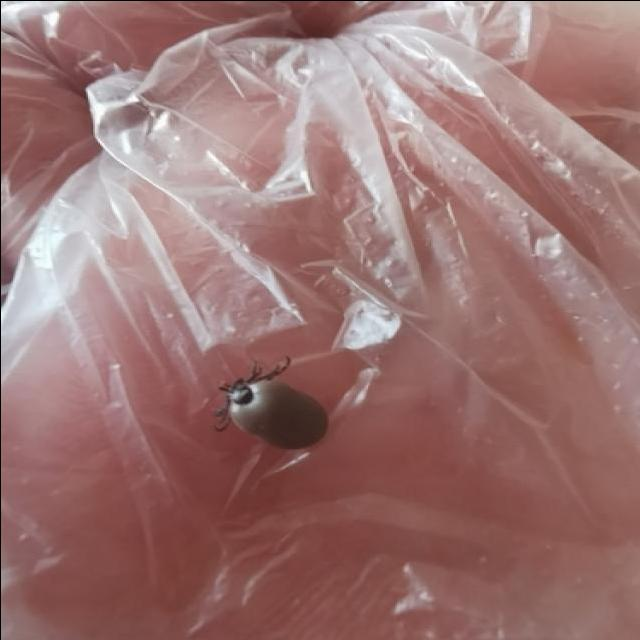Ixodes Ricinus-F-Fed: (210, 356, 328, 449)
